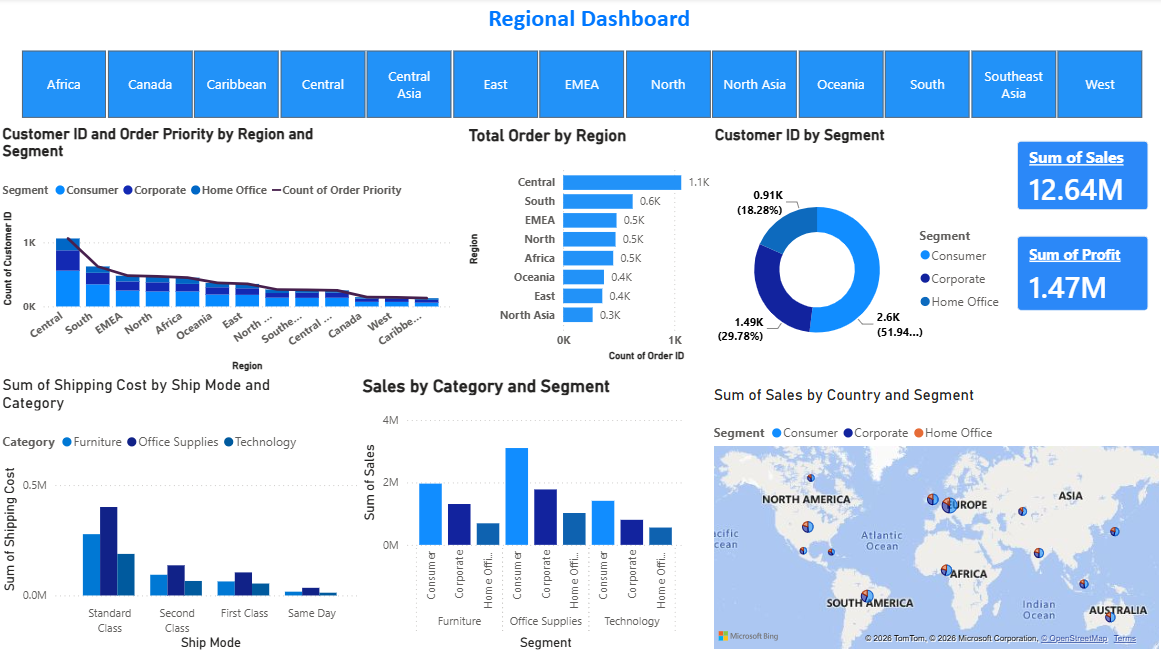

This screenshot's page, from the dashboard's own definition file:
{"tool":"powerbi","page":{"name":"Page 1","canvas":[1280,720],"ordinal":0},"visuals":[{"type":"textbox","box":[321.1,0,655.9,46.7],"z":0},{"type":"slicer","fields":{"Values":["Regional_Sales_Data.Region"]},"box":[0,37,1280.3,101.5],"z":1000},{"type":"lineStackedColumnComboChart","title":"Customer ID and Order Priority by Region and Segment","fields":{"Category":["Regional_Sales_Data.Region"],"Series":["Regional_Sales_Data.Segment"],"Y":["CountNonNull(Regional_Sales_Data.Customer ID)"],"Y2":["CountNonNull(Regional_Sales_Data.Order Priority)"]},"box":[0,138.6,502.2,275.8],"z":2000},{"type":"clusteredBarChart","title":"Total Order by Region","fields":{"Y":["CountNonNull(Regional_Sales_Data.Order ID)"],"Category":["Regional_Sales_Data.Region"]},"box":[511.8,140,312.9,263.5],"z":3000},{"type":"donutChart","title":" Customer ID by Segment","fields":{"Category":["Regional_Sales_Data.Segment"],"Y":["CountNonNull(Regional_Sales_Data.Customer ID)"]},"box":[782.2,140,331.4,284.9],"z":4000},{"type":"cardVisual","fields":{"Data":["Sum(Regional_Sales_Data.Sales)"]},"box":[1101.9,140,178.5,110.1],"z":5000},{"type":"cardVisual","fields":{"Data":["Sum(Regional_Sales_Data.Profit)"]},"box":[1101.9,244.3,178.5,116.2],"z":6000},{"type":"clusteredColumnChart","fields":{"Category":["Regional_Sales_Data.Ship Mode"],"Y":["Sum(Regional_Sales_Data.Shipping Cost)"],"Series":["Regional_Sales_Data.Category"]},"box":[0,414.4,408.9,306],"z":7000},{"type":"clusteredColumnChart","title":"Sales by Category and Segment","fields":{"Y":["Sum(Regional_Sales_Data.Sales)"],"Category":["Regional_Sales_Data.Category","Regional_Sales_Data.Segment"]},"box":[395.7,414.3,362.9,305.7],"z":8000},{"type":"map","fields":{"Category":["Regional_Sales_Data.Country"],"Series":["Regional_Sales_Data.Segment"],"Size":["Sum(Regional_Sales_Data.Sales)"]},"box":[781.4,425.7,498.6,294.3],"z":8001}]}

Visuals, with their boxes in screenshot pixels (x1, y1, x2, y2), scaled from the page's 1280x720 canvas onto the 1161x652 screenshot:
textbox: {"x1": 291, "y1": 0, "x2": 886, "y2": 42}
slicer - Regional_Sales_Data.Region: {"x1": 0, "y1": 34, "x2": 1160, "y2": 125}
"Customer ID and Order Priority by Region and Segment" lineStackedColumnComboChart: {"x1": 0, "y1": 126, "x2": 456, "y2": 375}
"Total Order by Region" clusteredBarChart: {"x1": 464, "y1": 127, "x2": 748, "y2": 365}
" Customer ID by Segment" donutChart: {"x1": 709, "y1": 127, "x2": 1010, "y2": 385}
cardVisual - Sum(Regional_Sales_Data.Sales): {"x1": 999, "y1": 127, "x2": 1160, "y2": 226}
cardVisual - Sum(Regional_Sales_Data.Profit): {"x1": 999, "y1": 221, "x2": 1160, "y2": 326}
clusteredColumnChart - Regional_Sales_Data.Ship Mode x Sum(Regional_Sales_Data.Shipping Cost): {"x1": 0, "y1": 375, "x2": 371, "y2": 651}
"Sales by Category and Segment" clusteredColumnChart: {"x1": 359, "y1": 375, "x2": 688, "y2": 651}
map - Regional_Sales_Data.Country x Regional_Sales_Data.Segment: {"x1": 709, "y1": 385, "x2": 1160, "y2": 651}
